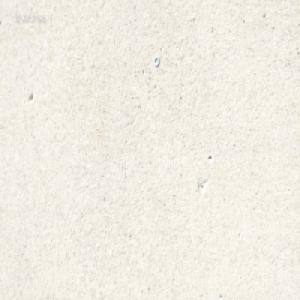Washer: (153, 56, 159, 67)
